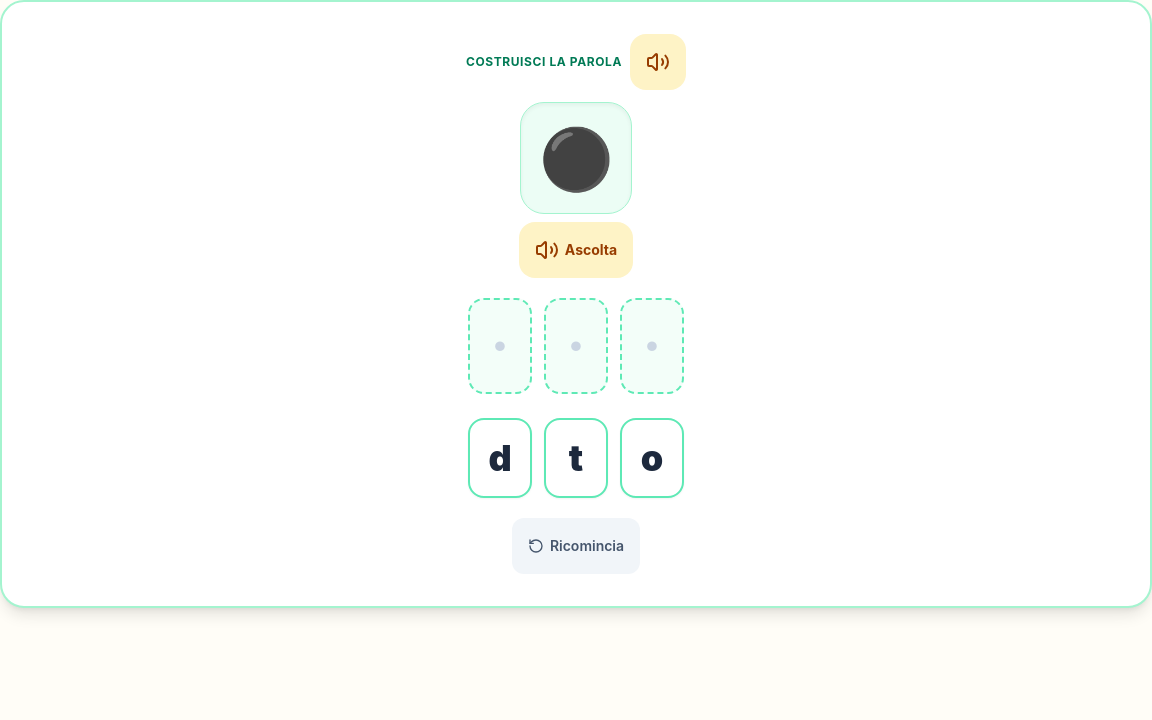
Test: EnglishSpell › pays less for a word already built and uses the chosen style
Click the button "d". click: (500, 458)
box: [468, 418, 532, 498]
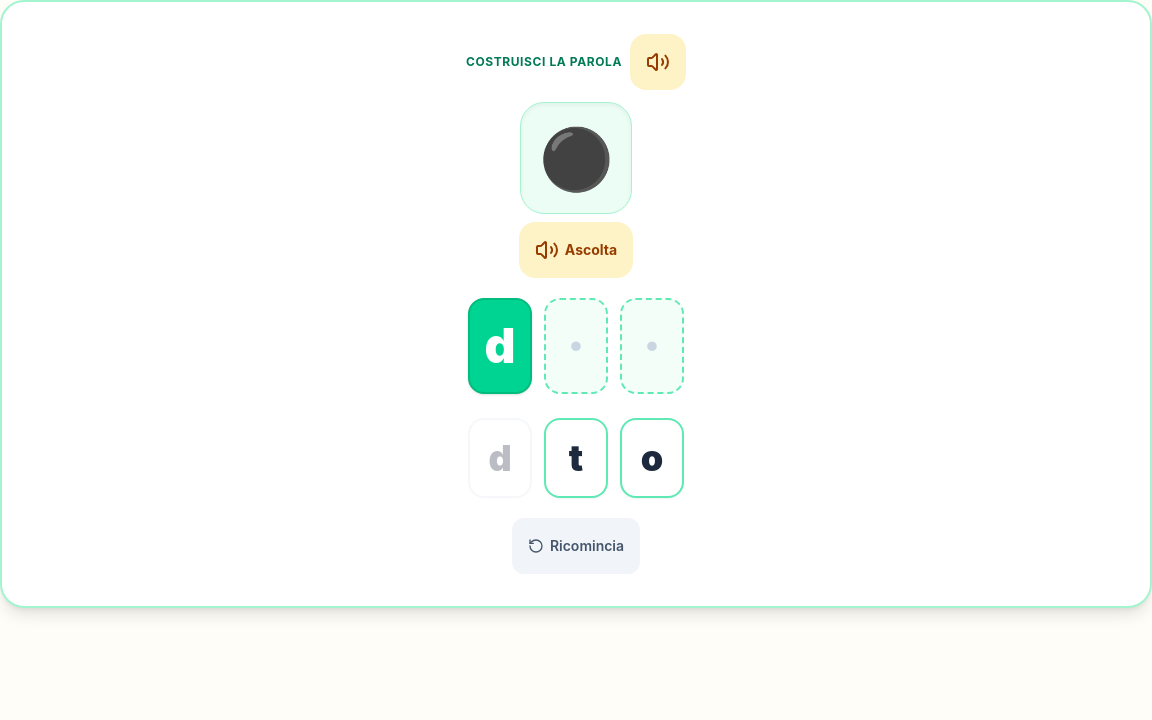
Click the button "o". click: (652, 458)
box: [620, 418, 684, 498]
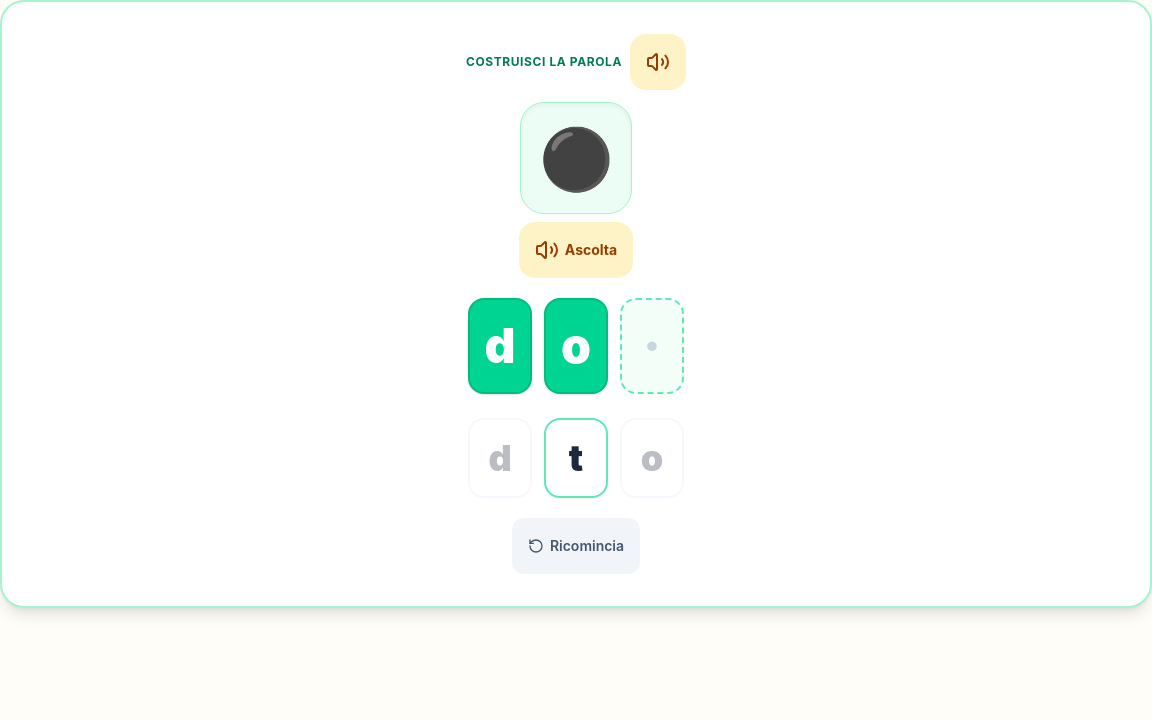
Click the button "t". click: (576, 458)
box: [544, 418, 608, 498]
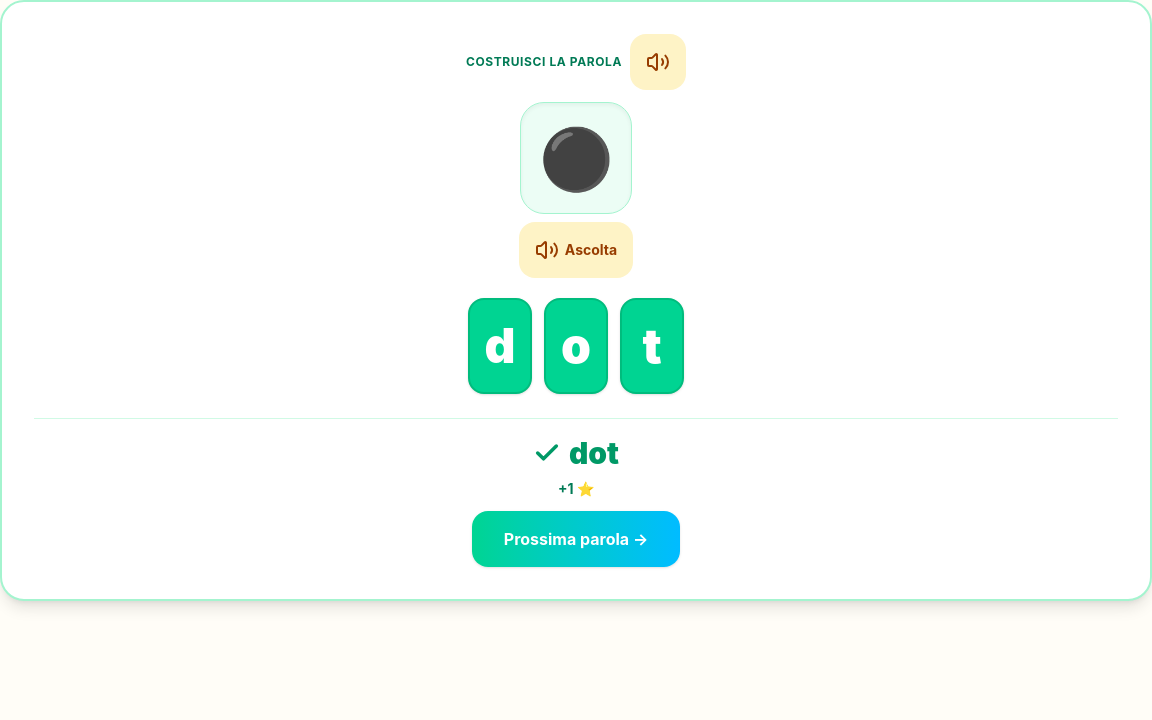
Expected: the text "dot" is shown, [569, 435, 619, 471]
